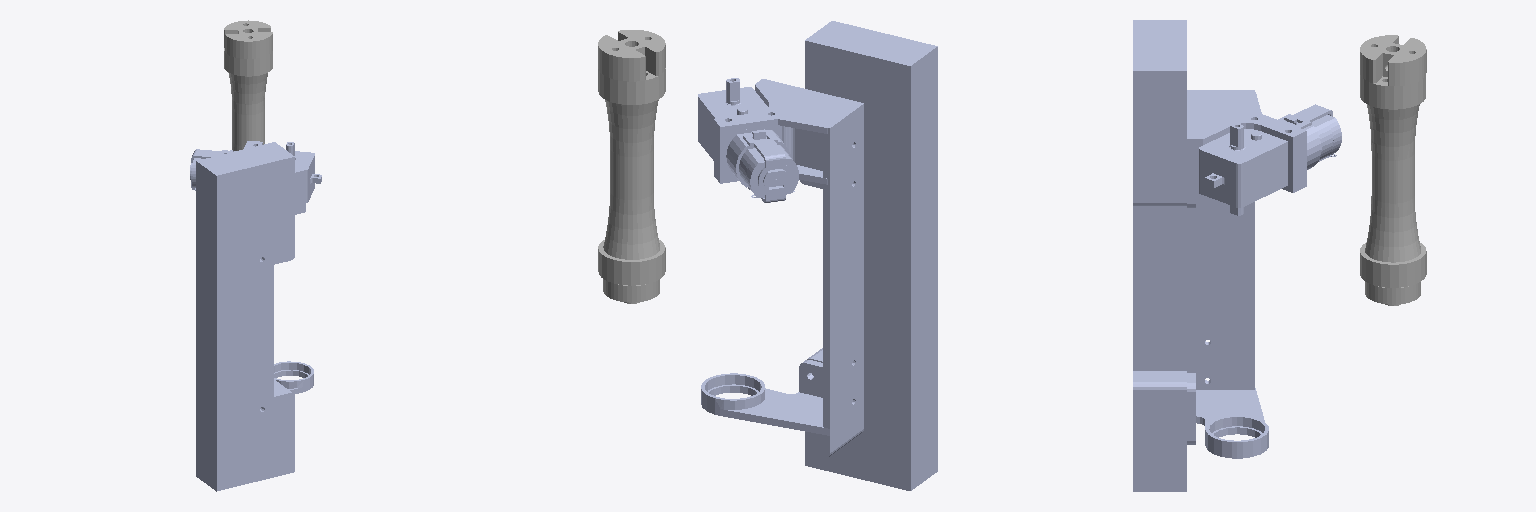
The robot description file, URDF, robot "DRIBBLERROS2":
<?xml version="1.0" encoding="utf-8"?>
<!-- This URDF was automatically created by SolidWorks to URDF Exporter! Originally created by [author] ([email redacted]) 
     Commit Version: 1.6.0-1-g15f4949  Build Version: 1.6.7594.29634
     For more information, please see http://wiki.ros.org/sw_urdf_exporter -->
<robot
  name="DRIBBLERROS2">
  <link
    name="base_link">
    <inertial>
      <origin
        xyz="0.0203694142070934 0.0166762574365357 0.0985105964830505"
        rpy="0 0 0" />
      <mass
        value="0.216799467365492" />
      <inertia
        ixx="0.000567793513793956"
        ixy="-7.97799617635158E-06"
        ixz="-6.33763754098118E-06"
        iyy="0.000584785039451052"
        iyz="-3.85993573026436E-06"
        izz="4.46609423289594E-05" />
    </inertial>
    <visual>
      <origin
        xyz="0 0 0"
        rpy="0 0 0" />
      <geometry>
        <mesh
          filename="package://DRIBBLERROS2/meshes/base_link.STL" />
      </geometry>
      <material
        name="">
        <color
          rgba="0.792156862745098 0.819607843137255 0.933333333333333 1" />
      </material>
    </visual>
    <collision>
      <origin
        xyz="0 0 0"
        rpy="0 0 0" />
      <geometry>
        <mesh
          filename="package://DRIBBLERROS2/meshes/base_link.STL" />
      </geometry>
    </collision>
  </link>
  <link
    name="link1 ">
    <inertial>
      <origin
        xyz="0.0135 -0.06 -0.065471"
        rpy="0 0 0" />
      <mass
        value="0.034554" />
      <inertia
        ixx="2.5293E-05"
        ixy="7.086E-15"
        ixz="1.1518E-14"
        iyy="2.5233E-05"
        iyz="-4.5066E-15"
        izz="2.1458E-06" />
    </inertial>
    <visual>
      <origin
        xyz="0 0 0"
        rpy="0 0 0" />
      <geometry>
        <mesh
          filename="package://DRIBBLERROS2/meshes/link1 .STL" />
      </geometry>
      <material
        name="">
        <color
          rgba="0.75294 0.75294 0.75294 1" />
      </material>
    </visual>
    <collision>
      <origin
        xyz="0 0 0"
        rpy="0 0 0" />
      <geometry>
        <mesh
          filename="package://DRIBBLERROS2/meshes/link1 .STL" />
      </geometry>
    </collision>
  </link>
  <joint
    name="joint1"
    type="revolute">
    <origin
      xyz="0.045529 0.076677 0.066206"
      rpy="0 0 0" />
    <parent
      link="base_link" />
    <child
      link="link1 " />
    <axis
      xyz="0 0 0" />
    <limit
      lower="0"
      upper="0"
      effort="0"
      velocity="0" />
  </joint>
</robot>

--- Render facts (derived) ---
Views: 3 orthographic renders of the robot side by side, from view 1: azimuth 30°, elevation 25°; view 2: azimuth 150°, elevation 25°; view 3: azimuth 270°, elevation 25°.
Robot: DRIBBLERROS2 — 2 links, 1 joints (1 revolute); root link base_link; default pose: every joint at zero.
Links seen in each view (by area): view 1: base_link, link1; view 2: base_link, link1; view 3: base_link, link1.
Boxes of the visible links, x1=… form: base_link: x1=190, y1=141, x2=321, y2=491; link1: x1=224, y1=20, x2=272, y2=150; base_link: x1=698, y1=21, x2=937, y2=490; link1: x1=598, y1=30, x2=665, y2=303; base_link: x1=1133, y1=20, x2=1341, y2=491; link1: x1=1360, y1=35, x2=1426, y2=305.
Size in the robot's own frame: 0.0905 by 0.1142 by 0.2043 metres.
Meshes: 2 distinct files referenced, 2 mesh visuals loaded (2 binary STL).